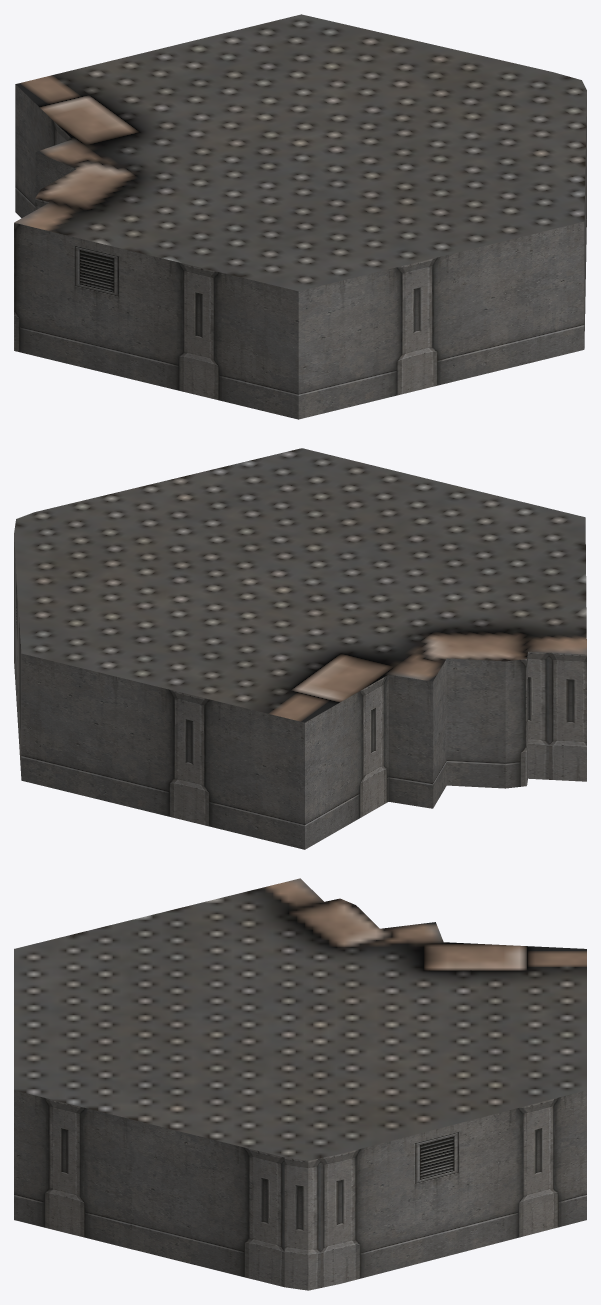
Rendered from building_hard_a_31.glb.
3 renders of one model, top to bottom at view 1: azimuth 30°, elevation 25°; view 2: azimuth 150°, elevation 25°; view 3: azimuth 270°, elevation 25°, orthographic. The views are drawn at different scales.
Visible parts, largest first — view 1: buildings/saxarba/building_hard/building_hard_a_31; view 2: buildings/saxarba/building_hard/building_hard_a_31; view 3: buildings/saxarba/building_hard/building_hard_a_31.
Part boxes in pixels (x1,y1,x2,y2): buildings/saxarba/building_hard/building_hard_a_31: [14, 14, 586, 419]; buildings/saxarba/building_hard/building_hard_a_31: [14, 448, 586, 849]; buildings/saxarba/building_hard/building_hard_a_31: [14, 878, 586, 1290].
Size of the model in its own units: 84 by 18 by 72.
